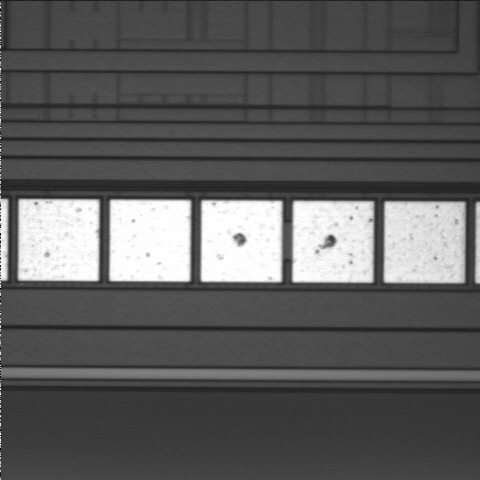pad: (109, 200, 191, 282), (18, 199, 99, 281), (201, 200, 282, 282), (292, 201, 373, 283), (384, 202, 465, 283)
